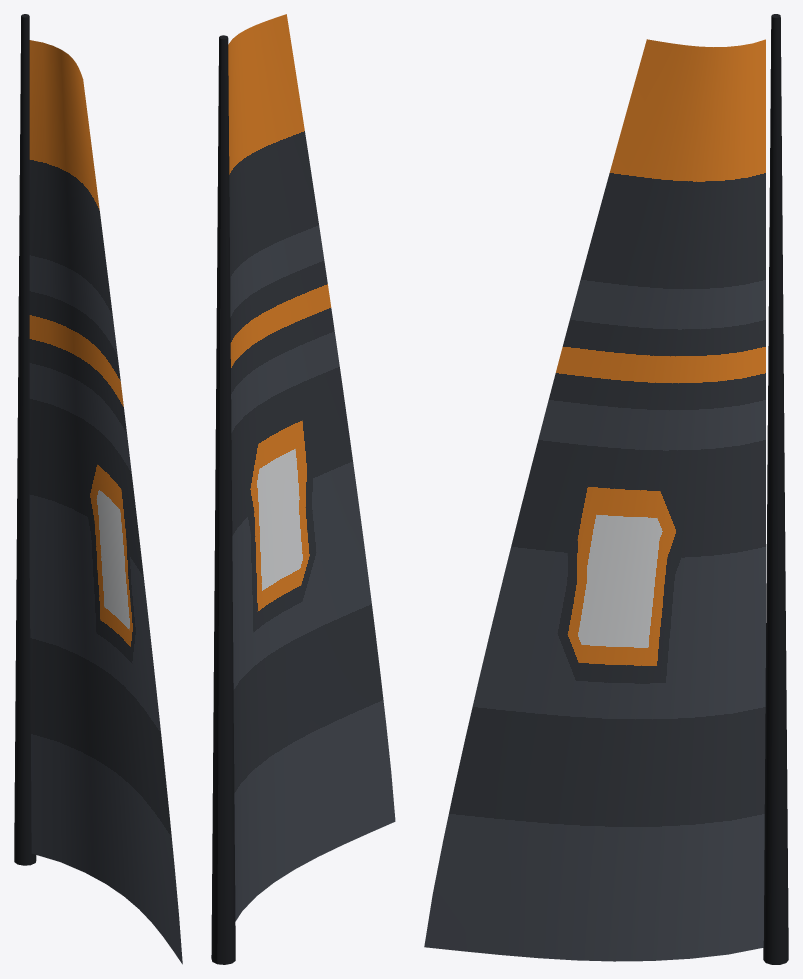
The model's file is rig_5_s.glb.
3 views of the same model, side by side, from view 1: azimuth 30°, elevation 25°; view 2: azimuth 150°, elevation 25°; view 3: azimuth 270°, elevation 25° (orthographic). The views are drawn at different scales.
Visible parts, largest first — view 1: rig_5_s_body; view 2: rig_5_s_body; view 3: rig_5_s_body.
Boxes of the visible parts, bbox=[...] form: rig_5_s_body: bbox=[14, 14, 182, 964]; rig_5_s_body: bbox=[211, 14, 395, 964]; rig_5_s_body: bbox=[424, 14, 788, 964].
Size of the model in its own units: 1.15 by 26.2 by 9.17.
Materials: 1 (1 with a texture image).
